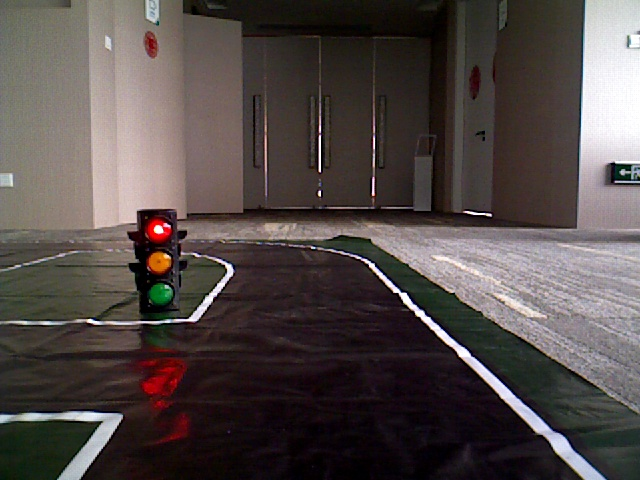red: (140, 214, 173, 308)
